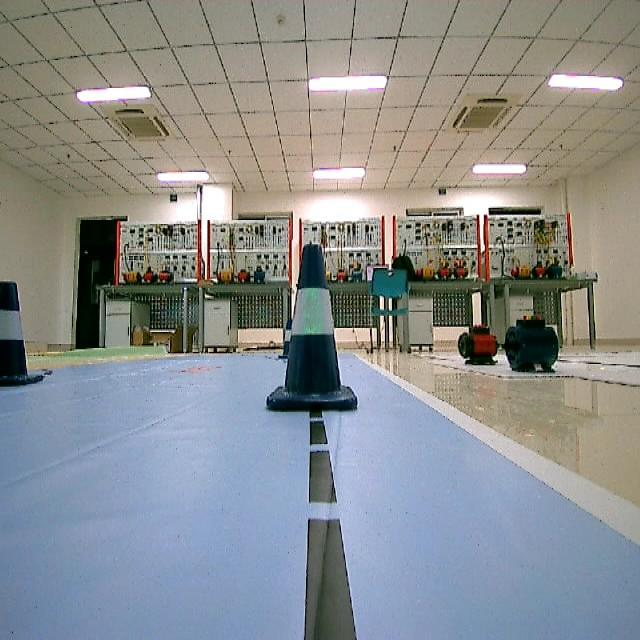obstacle: (260, 241, 370, 419), (0, 281, 54, 386)
